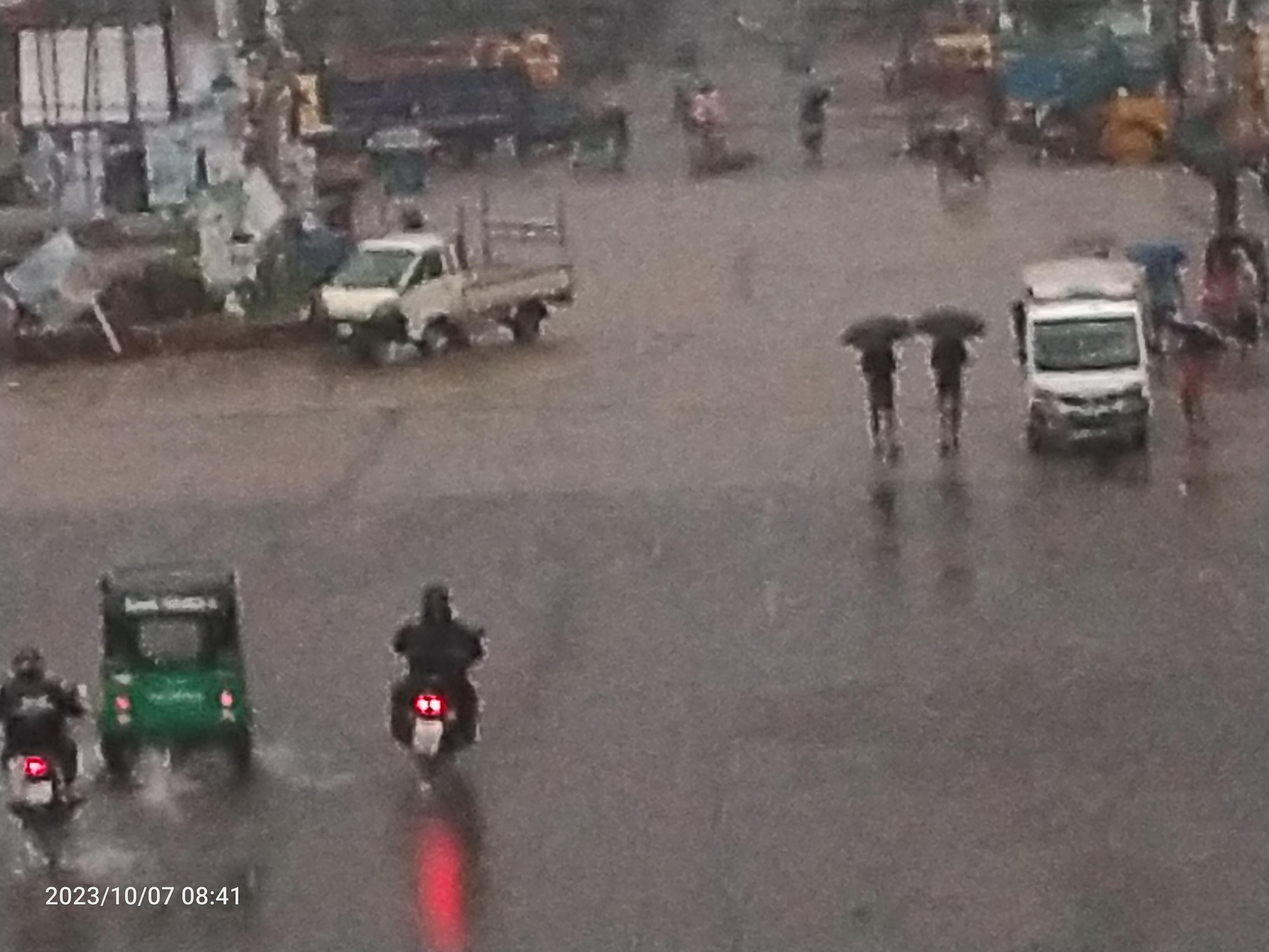Bike: (345, 562, 544, 810), (27, 628, 110, 885)
Car: (301, 201, 610, 372), (996, 228, 1162, 500)
